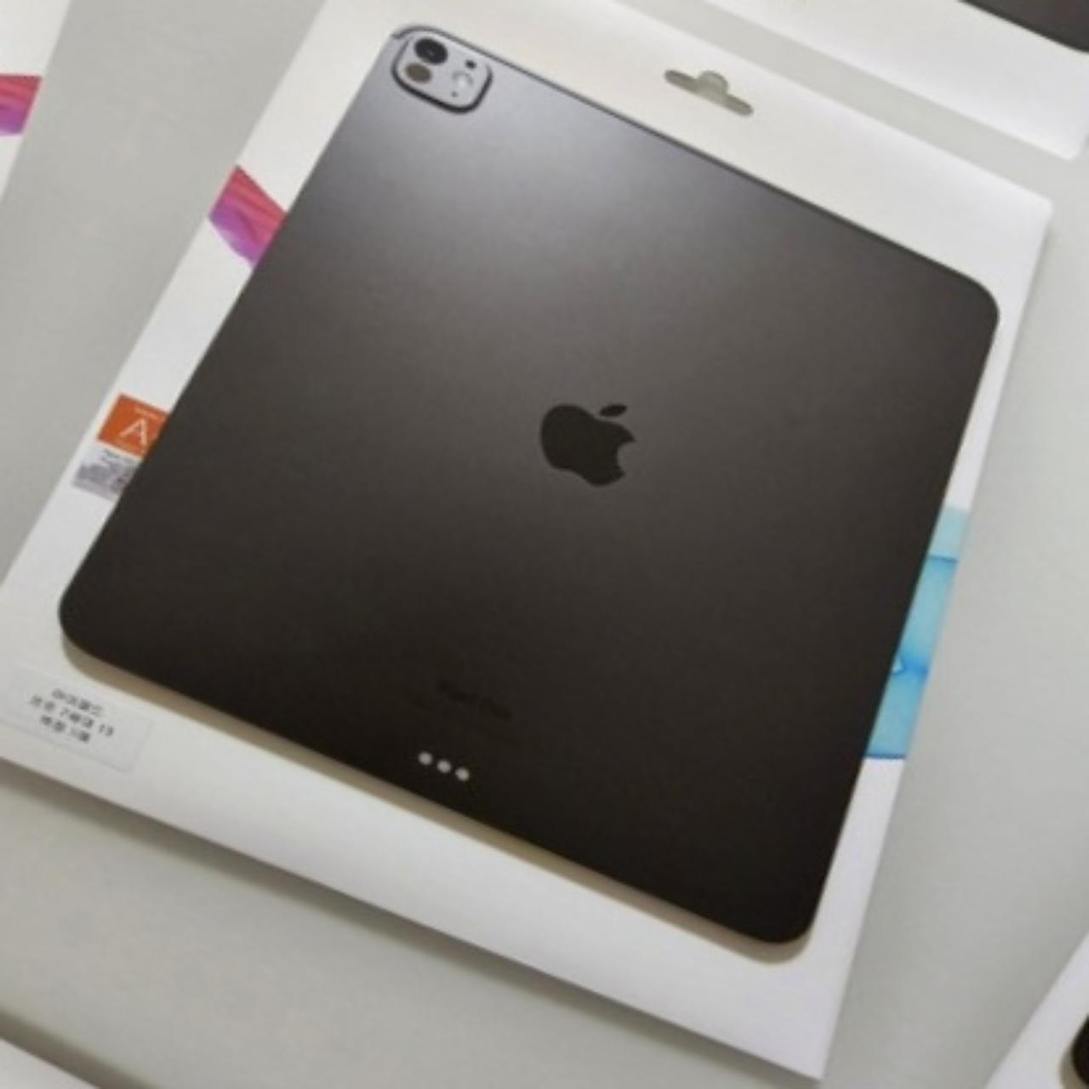Tablet_PC: (29, 0, 1089, 1002)
